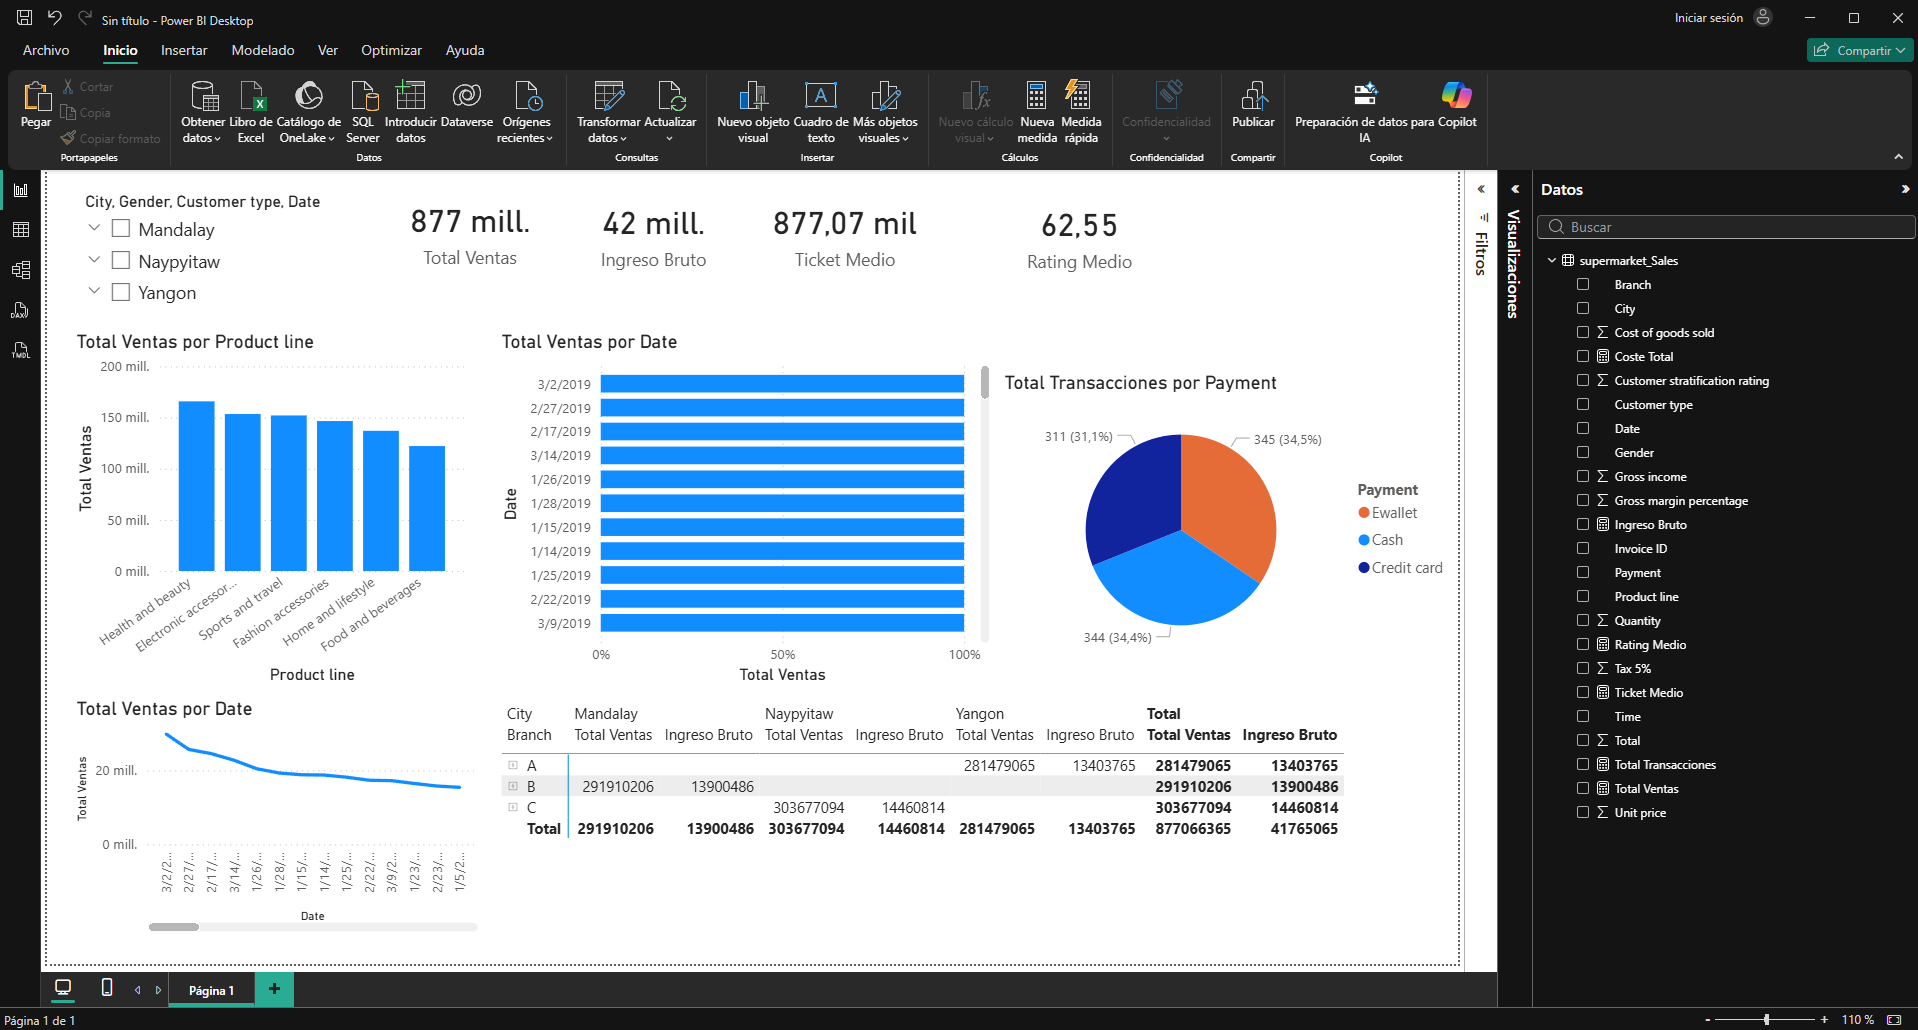

Layout of this report page (visuals, bound fields, positions):
{"tool":"powerbi","page":{"name":"Página 1","canvas":[1280,720],"ordinal":0},"visuals":[{"type":"card","fields":{"Values":["supermarket_Sales.Total Ventas"]},"box":[301.1,15.4,165,78.9],"z":1000},{"type":"card","fields":{"Values":["supermarket_Sales.Ingreso Bruto"]},"box":[466.1,15.4,167.8,82.5],"z":2000},{"type":"card","fields":{"Values":["supermarket_Sales.Ticket Medio"]},"box":[633.9,15.4,179.5,82.5],"z":3000},{"type":"card","fields":{"Values":["supermarket_Sales.Rating Medio"]},"box":[813.4,19,245.7,78.9],"z":4000},{"type":"clusteredColumnChart","fields":{"Category":["supermarket_Sales.Product line"],"Y":["supermarket_Sales.Total Ventas"]},"box":[21.8,145.1,361.8,325.5],"z":5000},{"type":"hundredPercentStackedBarChart","fields":{"Category":["supermarket_Sales.Date"],"Y":["supermarket_Sales.Total Ventas"]},"box":[407.2,145.1,452.5,325.5],"z":6000},{"type":"pieChart","fields":{"Category":["supermarket_Sales.Payment"],"Y":["supermarket_Sales.Total Transacciones"]},"box":[863.3,182.3,417.1,269.3],"z":7000},{"type":"lineChart","fields":{"Category":["supermarket_Sales.Date"],"Y":["supermarket_Sales.Total Ventas"]},"box":[21.8,477.9,373.6,217.6],"z":8000},{"type":"pivotTable","fields":{"Rows":["supermarket_Sales.Branch","supermarket_Sales.Product line"],"Columns":["supermarket_Sales.City"],"Values":["supermarket_Sales.Total Ventas","supermarket_Sales.Ingreso Bruto"]},"box":[407.2,477.9,791.6,180.5],"z":9000},{"type":"slicer","fields":{"Values":["supermarket_Sales.City","supermarket_Sales.Gender","supermarket_Sales.Customer type","supermarket_Sales.Date"]},"box":[21.8,15.4,279.3,113.4],"z":10000}]}

Visuals, with their boxes on the page's 1280x720 design canvas (x1, y1, x2, y2). These are canvas units, not pixel positions in the 1918x1030 screenshot, which may show the page scaled, cropped or inside an application window:
card - supermarket_Sales.Total Ventas: x1=301, y1=15, x2=466, y2=94
card - supermarket_Sales.Ingreso Bruto: x1=466, y1=15, x2=634, y2=98
card - supermarket_Sales.Ticket Medio: x1=634, y1=15, x2=813, y2=98
card - supermarket_Sales.Rating Medio: x1=813, y1=19, x2=1059, y2=98
clusteredColumnChart - supermarket_Sales.Product line x supermarket_Sales.Total Ventas: x1=22, y1=145, x2=384, y2=471
hundredPercentStackedBarChart - supermarket_Sales.Date x supermarket_Sales.Total Ventas: x1=407, y1=145, x2=860, y2=471
pieChart - supermarket_Sales.Payment x supermarket_Sales.Total Transacciones: x1=863, y1=182, x2=1280, y2=452
lineChart - supermarket_Sales.Date x supermarket_Sales.Total Ventas: x1=22, y1=478, x2=395, y2=696
pivotTable - supermarket_Sales.Branch x supermarket_Sales.Product line: x1=407, y1=478, x2=1199, y2=658
slicer - supermarket_Sales.City x supermarket_Sales.Gender: x1=22, y1=15, x2=301, y2=129
